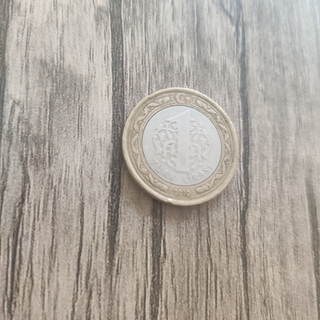1TL: (119, 84, 241, 209)
